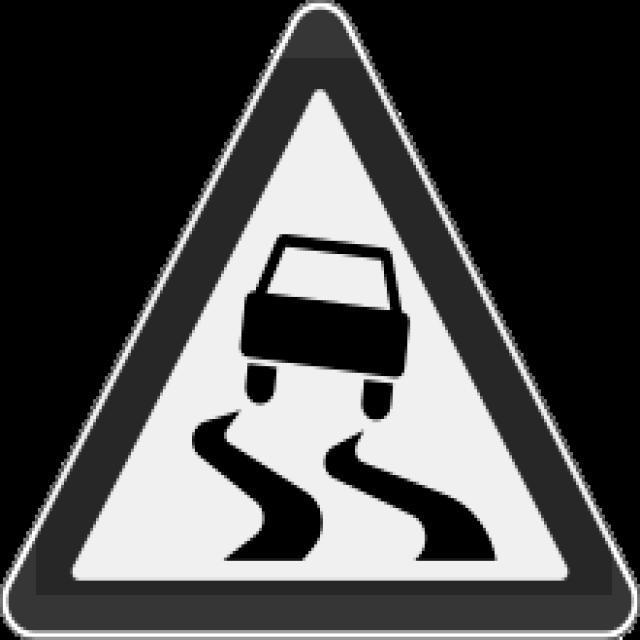slippery road: (26, 17, 623, 623)
